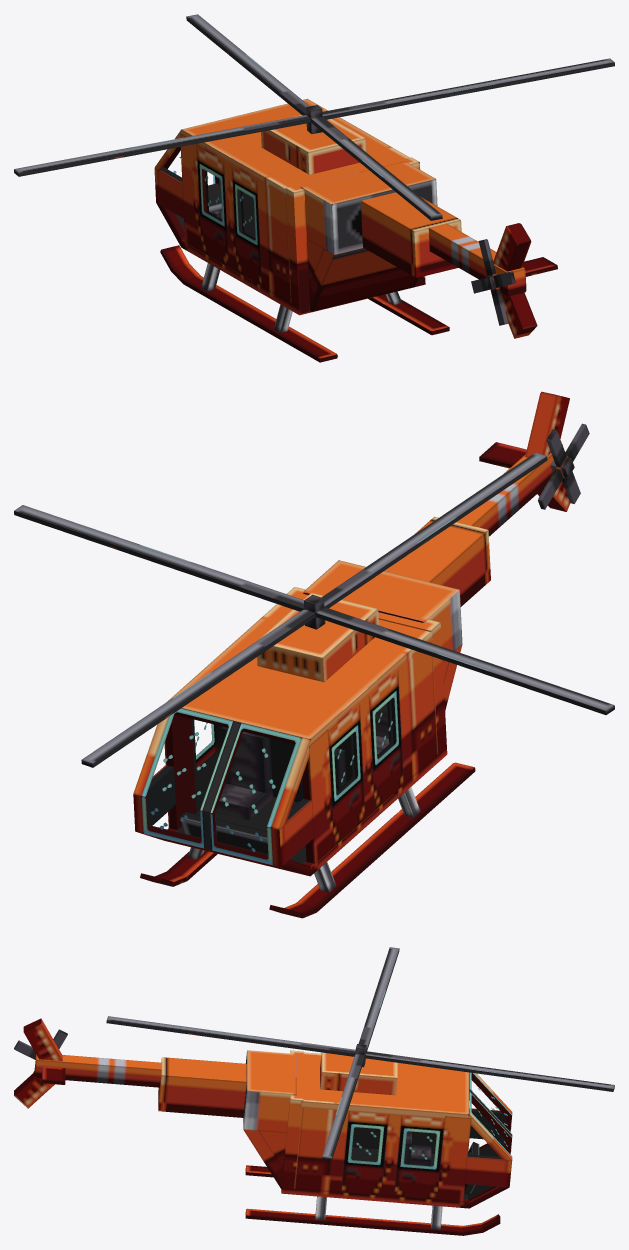
File: Helicopter.fbx
The picture shows the model from 3 angles, top to bottom: view 1: azimuth 30°, elevation 25°; view 2: azimuth 150°, elevation 25°; view 3: azimuth 270°, elevation 25°; orthographic projection. The views are drawn at different scales.
Parts seen in each view (by area): view 1: 8a165405-7584-6639-e7df-4c9067b49156_6; view 2: 8a165405-7584-6639-e7df-4c9067b49156_6; view 3: 8a165405-7584-6639-e7df-4c9067b49156_6.
Part boxes in pixels (box(x1,y1,x2,y2)): 8a165405-7584-6639-e7df-4c9067b49156_6: box(14, 14, 614, 362); 8a165405-7584-6639-e7df-4c9067b49156_6: box(14, 391, 614, 918); 8a165405-7584-6639-e7df-4c9067b49156_6: box(14, 947, 614, 1235).
Size of the model in its own units: 15403 by 6316 by 18145.
Materials: 1 (1 with a texture image).
